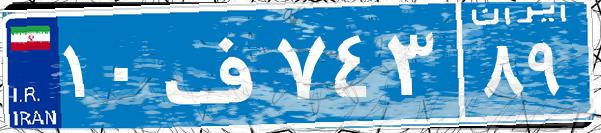0: (110, 28, 158, 105)
1: (57, 26, 110, 107)
3: (385, 28, 445, 110)
4: (330, 28, 385, 110)
7: (273, 28, 330, 110)
8: (475, 38, 525, 113)
9: (525, 38, 570, 115)
ف: (158, 15, 273, 115)
